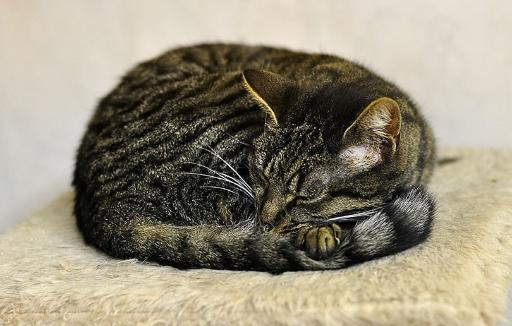cat_sleeping: (74, 44, 434, 272)
